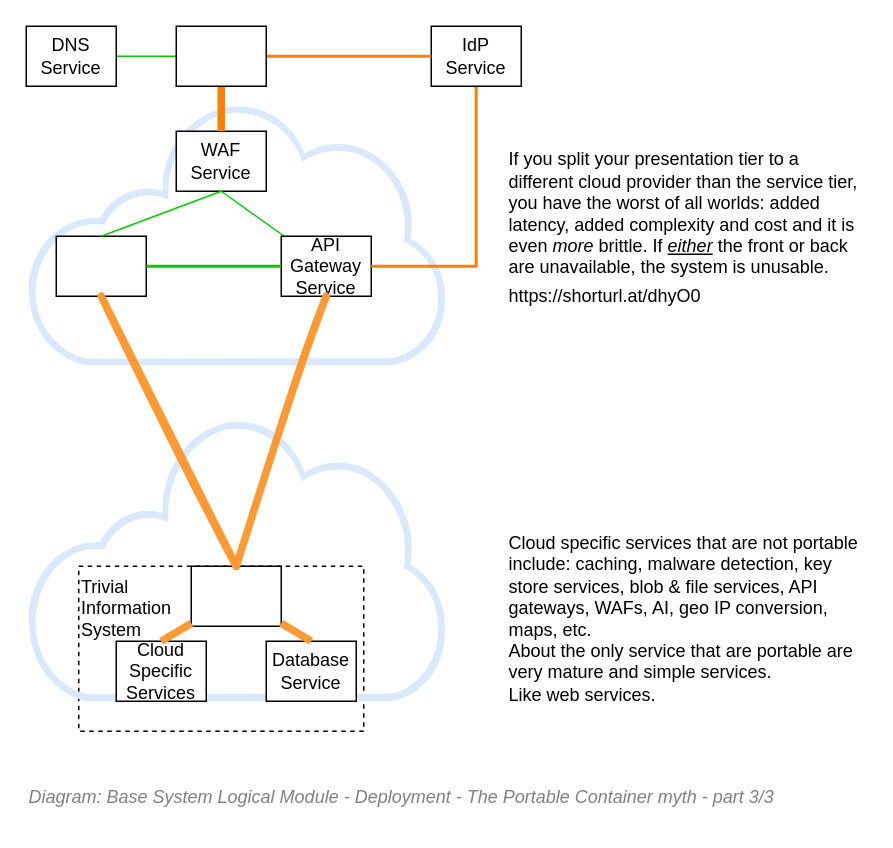
Some shapes in this 893 by 848 pixel diagram are drawn without their labels. Each missing label, with the box of its shape:
Container based Web Service: (190, 565, 281, 626)
Service Client: (175, 25, 266, 86)
Web UI Services: (55, 235, 146, 296)
